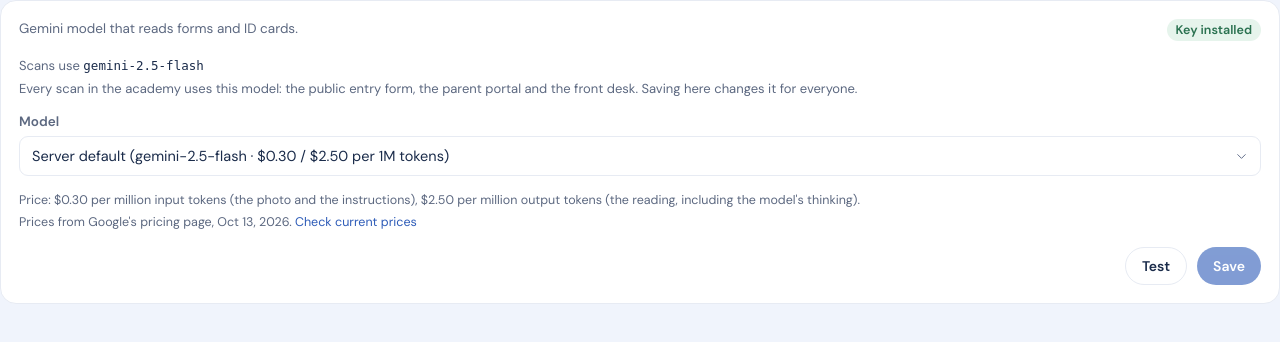
Test: the scanning card › refuses a model name that is not one
Select "Other…" in the dropdown labelled "Model" at x=640, y=156, box [19, 136, 1261, 176]
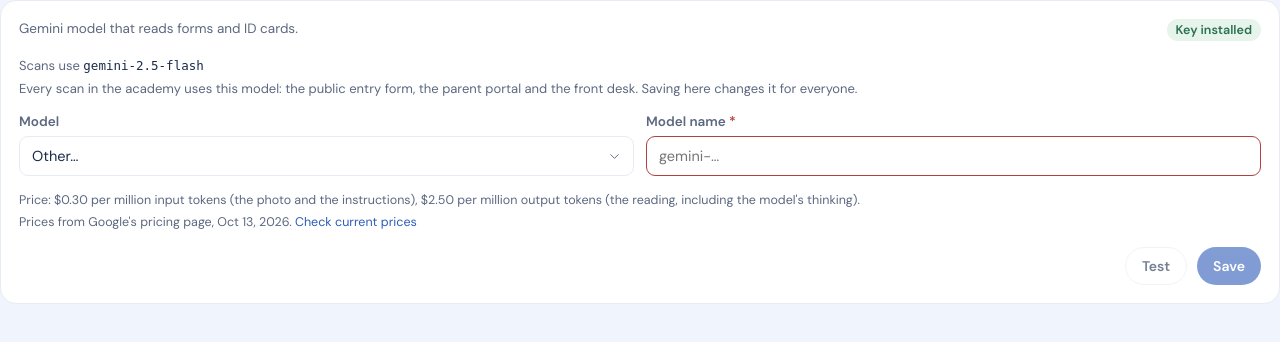
Type "../files" into the field labelled "Model name *" at x=954, y=156, box [646, 136, 1261, 176]
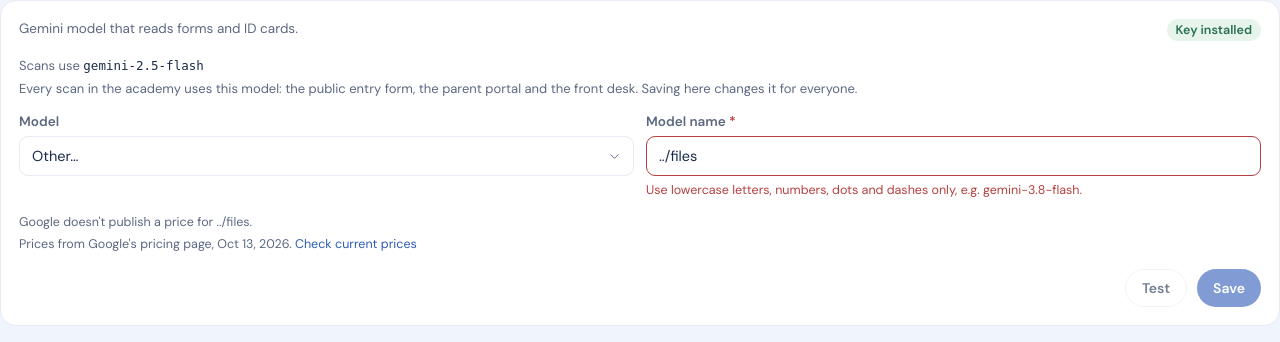
Expected: the button "Save" is disabled, [1197, 269, 1261, 307]
Now the button "Test" is disabled, box [1125, 269, 1187, 307]
Now the text "Use lowercase letters, numbers, dots and dashes only, e.g. gemini-3.8-flash." is shown, box [646, 182, 1082, 198]
